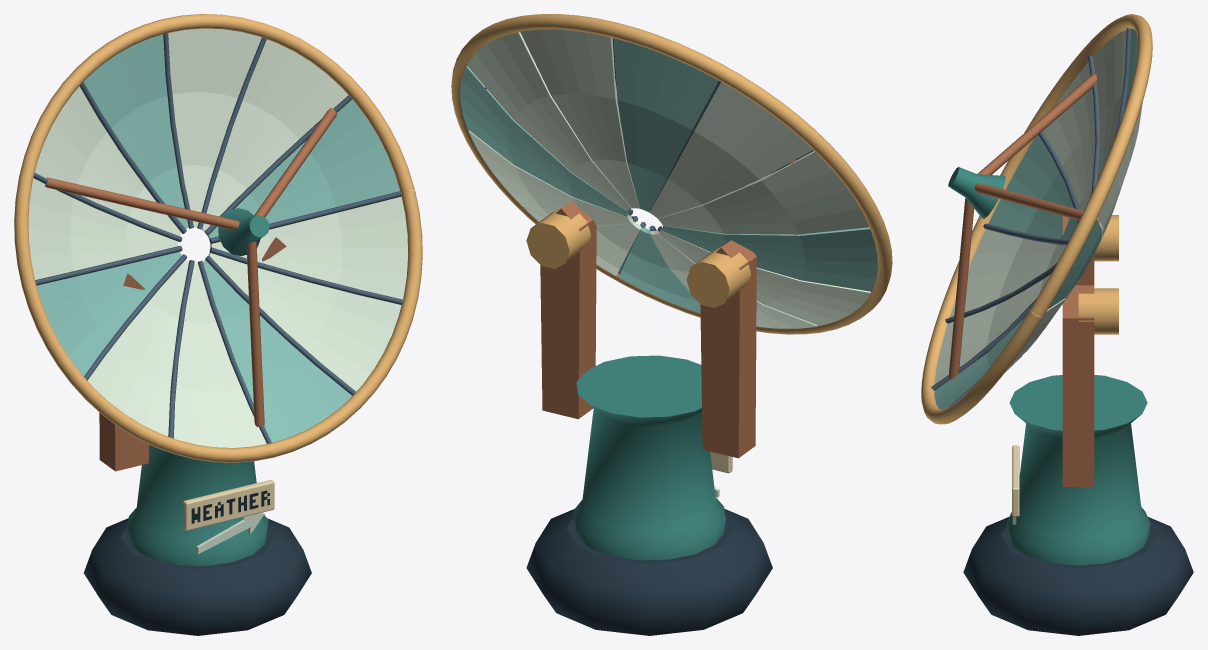
3 renders of one model, left to right at view 1: azimuth 30°, elevation 25°; view 2: azimuth 150°, elevation 25°; view 3: azimuth 270°, elevation 25°, orthographic. The views are drawn at different scales.
Visible parts, largest first — view 1: PR071 enamel and hardware; view 2: PR071 enamel and hardware; view 3: PR071 enamel and hardware.
Boxes of the visible parts, x1=… form: PR071 enamel and hardware: x1=14, y1=14, x2=422, y2=635; PR071 enamel and hardware: x1=451, y1=14, x2=892, y2=635; PR071 enamel and hardware: x1=921, y1=14, x2=1193, y2=635.
Bounding box in the file's own units: 1.51 × 2.02 × 0.9.
